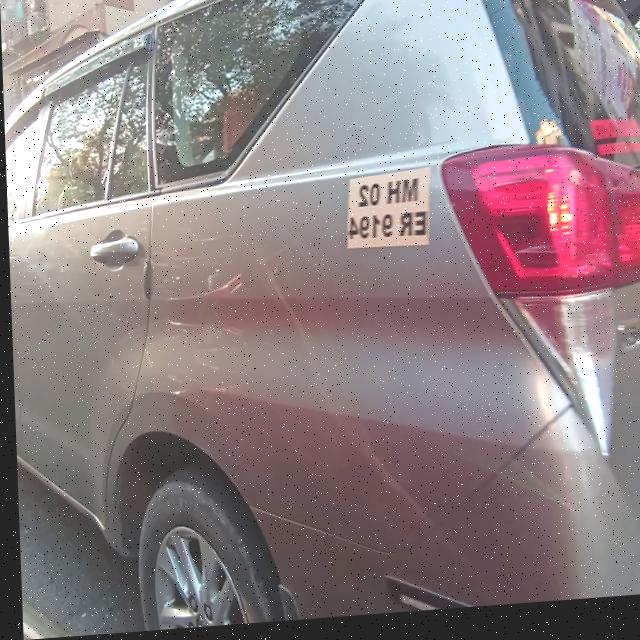plate: (341, 171, 432, 257)
